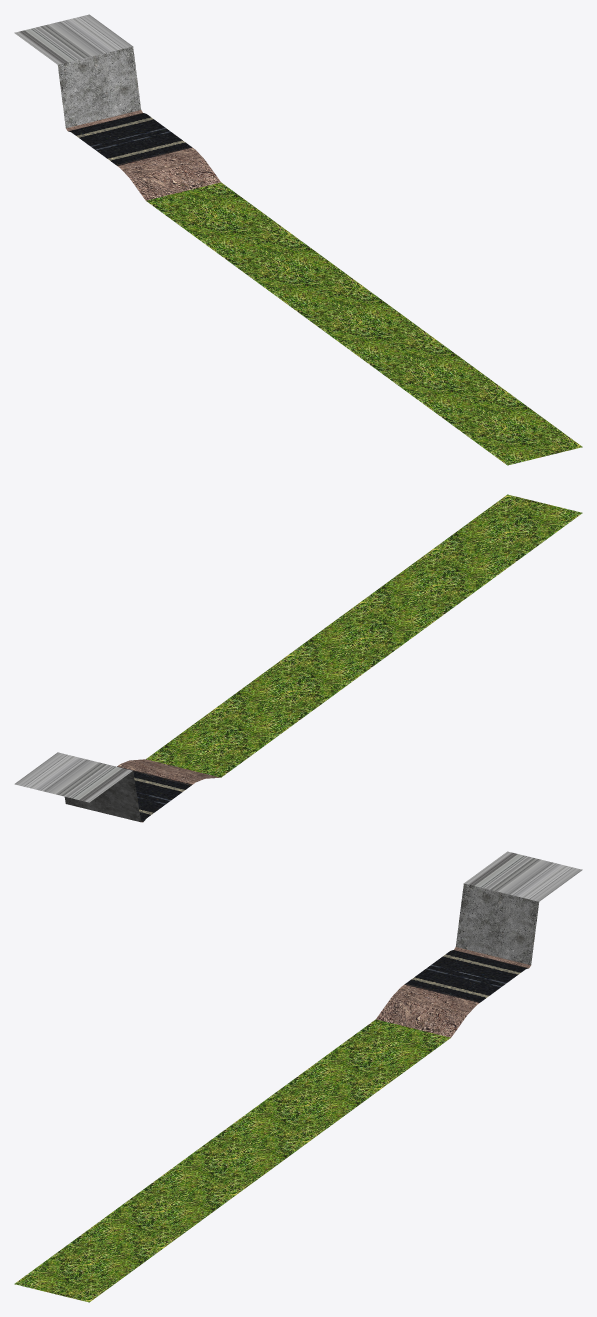
The model's file is Map.dae.
3 renders of one model, top to bottom at view 1: azimuth 30°, elevation 25°; view 2: azimuth 150°, elevation 25°; view 3: azimuth 330°, elevation 25°, orthographic.
Visible parts, largest first — view 1: Cube; view 2: Cube; view 3: Cube.
Boxes of the visible parts, left/top/right/bottom form: Cube: left=14, top=14, right=582, bottom=465; Cube: left=14, top=494, right=582, bottom=822; Cube: left=14, top=851, right=582, bottom=1302.
Bounding box in the file's own units: 2 × 22.65 × 1.81.
Materials: 4 (4 with a texture image).
